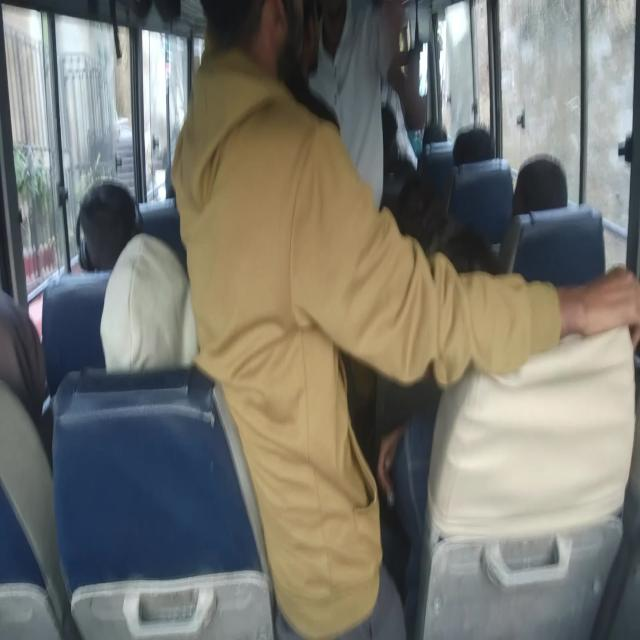person: (169, 0, 639, 638), (305, 0, 414, 212)
